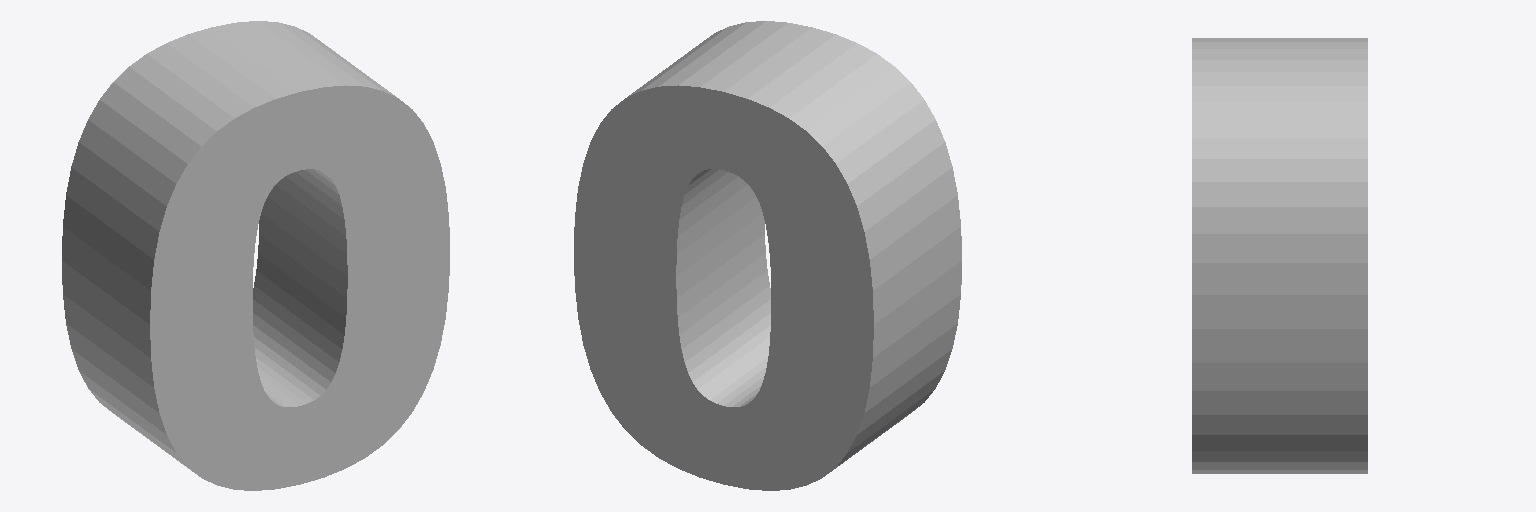
3 views of the same model, side by side, from view 1: azimuth 30°, elevation 25°; view 2: azimuth 150°, elevation 25°; view 3: azimuth 270°, elevation 25° (orthographic).
Parts seen in each view (by area): view 1: テキスト; view 2: テキスト; view 3: テキスト.
Boxes of the visible parts, <box> form: テキスト: <box>62,21,449,490</box>; テキスト: <box>574,21,961,490</box>; テキスト: <box>1192,38,1367,473</box>.
Size of the model in its own units: 0.3927 by 0.4908 by 0.2.